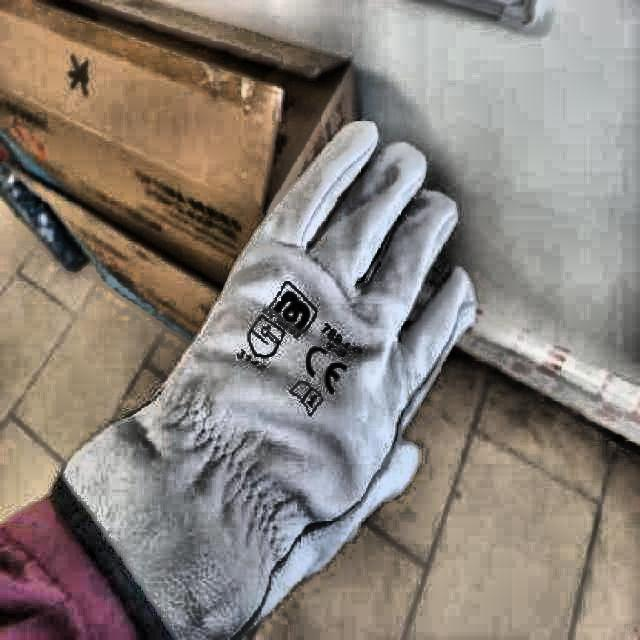gloved: (67, 117, 479, 640)
